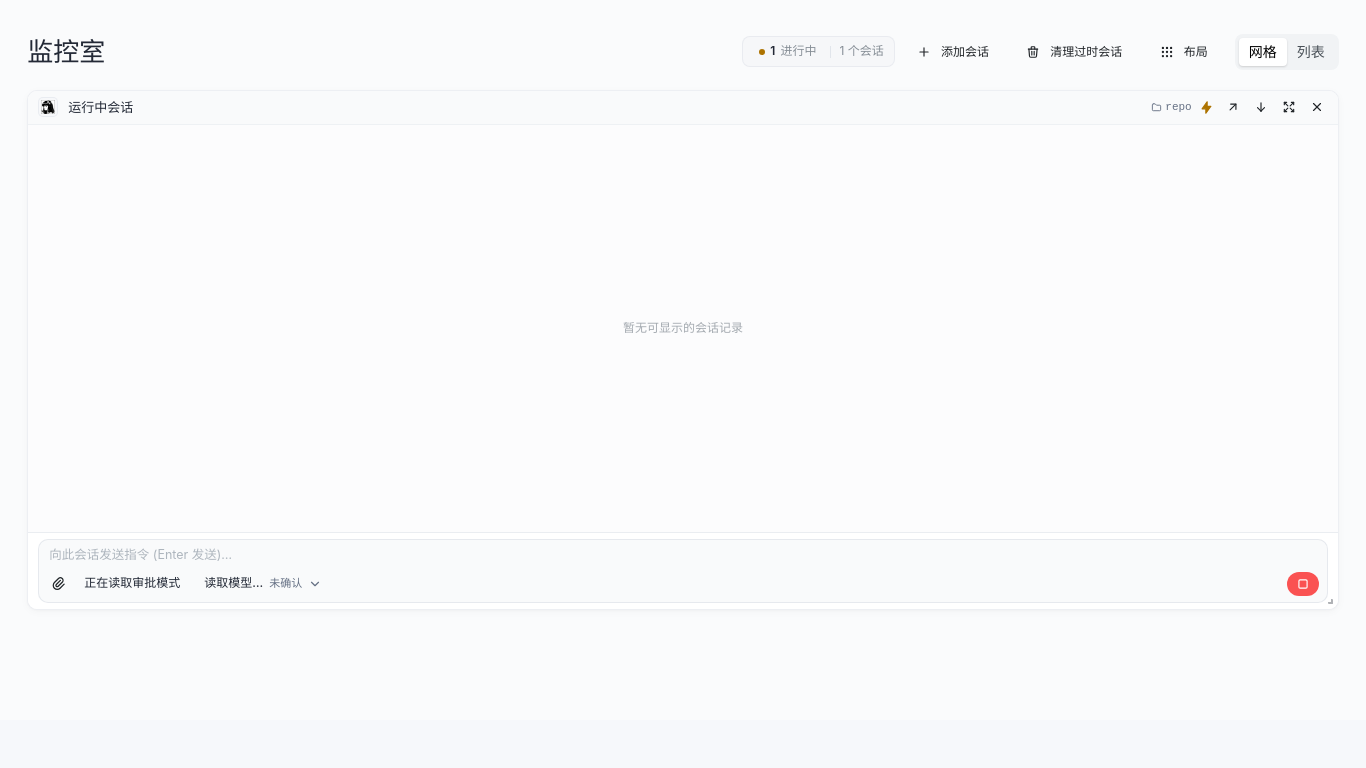
Test: MonitorPage › does not automatically re-add a manually removed running session
Click the button named "移出监控室" at (1317, 107), box [1306, 96, 1328, 118]
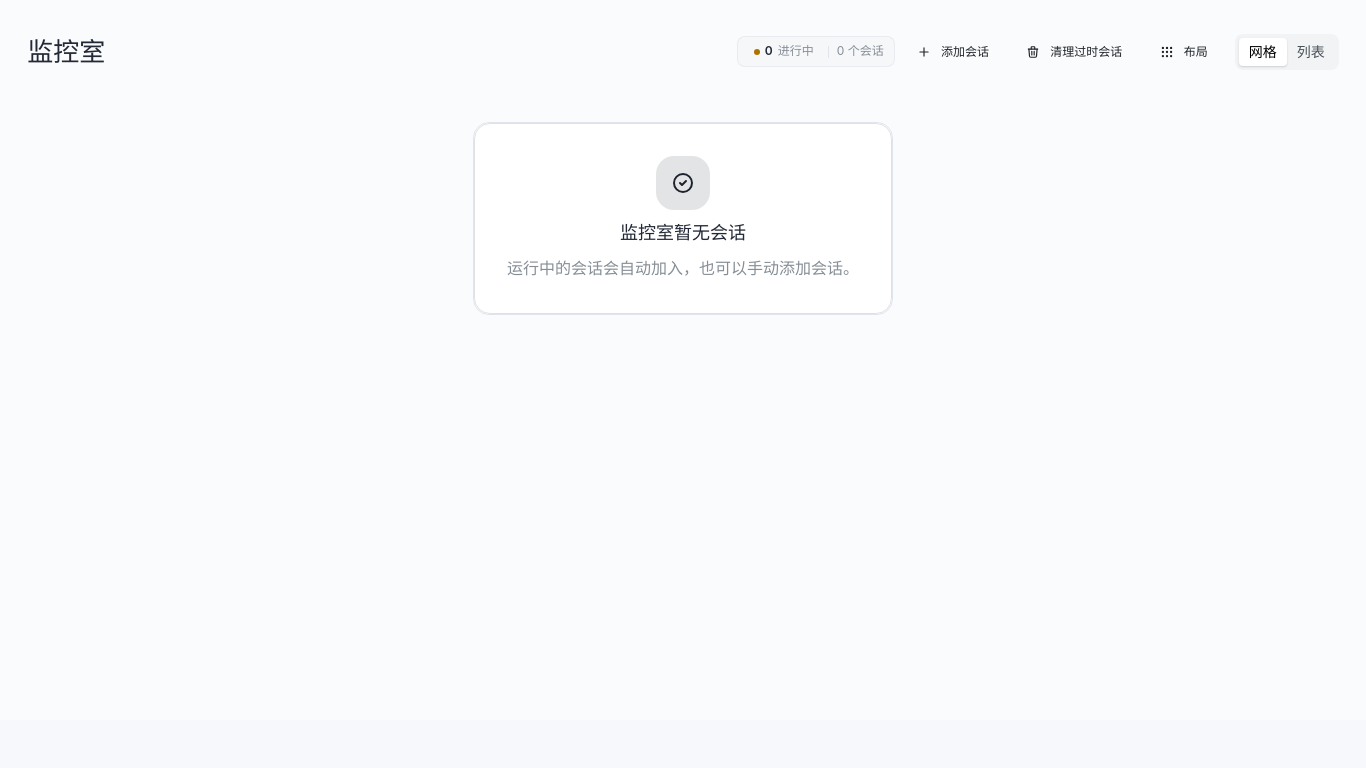
Expected: the element with test id "monitor-card-agent-1-session-1" is gone
